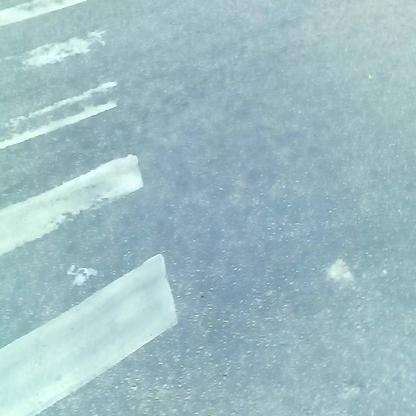crosswalk: (1, 6, 173, 416)
